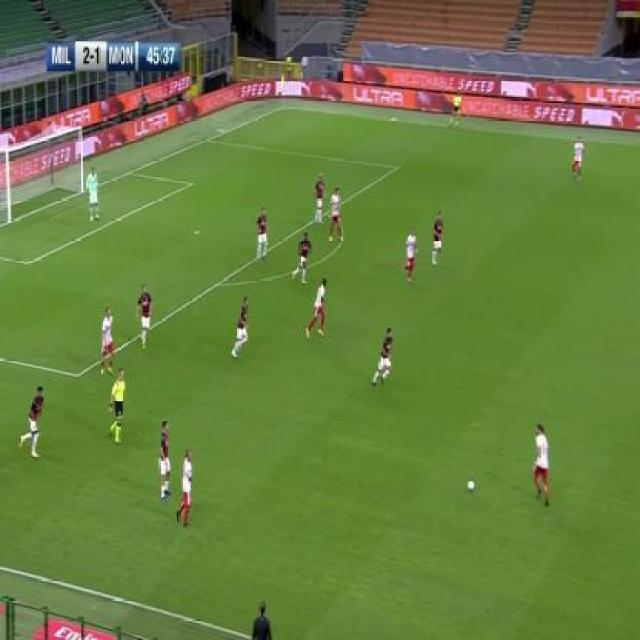ball: (466, 475, 475, 494)
player: (18, 385, 44, 458), (531, 421, 553, 506), (107, 368, 127, 444), (175, 448, 194, 527), (156, 419, 173, 504), (305, 278, 328, 340), (372, 326, 394, 389), (292, 229, 314, 285), (99, 304, 116, 375), (230, 298, 250, 357), (136, 285, 152, 350), (401, 227, 418, 284), (251, 599, 274, 639), (328, 186, 344, 243), (570, 133, 587, 182), (86, 165, 100, 222), (256, 206, 270, 262), (431, 210, 444, 264), (312, 171, 325, 224), (448, 89, 461, 129)
